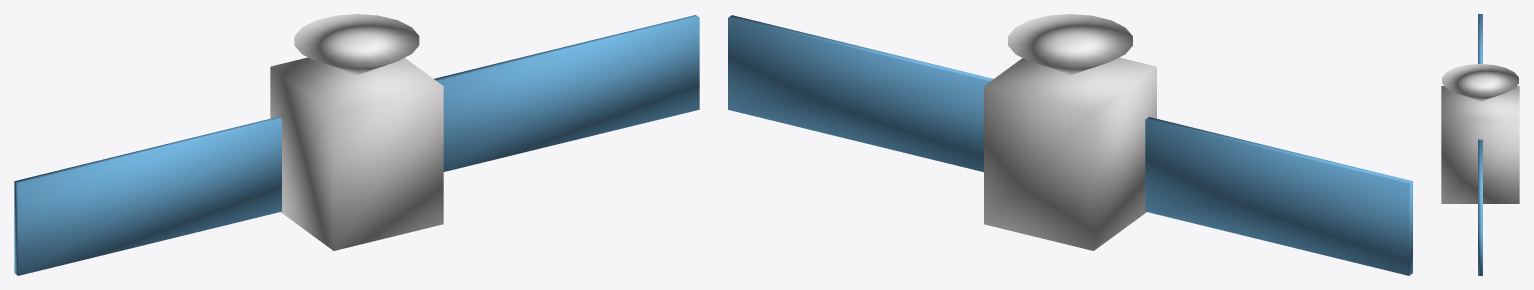
Rendered from satellite.glb.
The picture shows the model from 3 angles, left to right: view 1: azimuth 30°, elevation 25°; view 2: azimuth 150°, elevation 25°; view 3: azimuth 270°, elevation 25°; orthographic projection. The views are drawn at different scales.
Visible parts, largest first — view 1: bus_node, panel_l_node, panel_r_node, dish_node; view 2: bus_node, panel_l_node, panel_r_node, dish_node; view 3: bus_node, dish_node, panel_r_node, panel_l_node.
Part boxes in pixels (x1=…): bus_node: x1=270, y1=57, x2=443, y2=250; panel_l_node: x1=14, y1=117, x2=281, y2=275; panel_r_node: x1=434, y1=15, x2=699, y2=171; dish_node: x1=294, y1=14, x2=419, y2=75; bus_node: x1=984, y1=57, x2=1156, y2=250; panel_l_node: x1=1145, y1=117, x2=1412, y2=275; panel_r_node: x1=728, y1=15, x2=993, y2=171; dish_node: x1=1008, y1=14, x2=1132, y2=75; bus_node: x1=1441, y1=86, x2=1519, y2=203; dish_node: x1=1442, y1=64, x2=1518, y2=101; panel_r_node: x1=1478, y1=139, x2=1482, y2=275; panel_l_node: x1=1478, y1=14, x2=1482, y2=63.
Bounding box in the file's own units: 3.1 × 0.7556 × 0.5.
